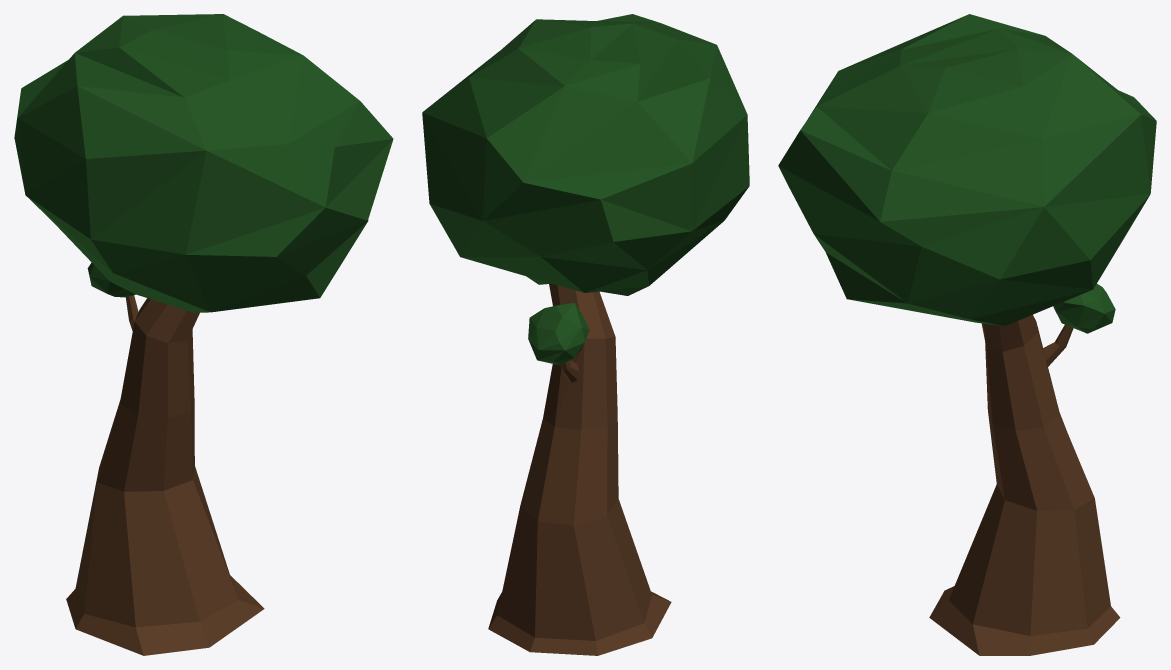
The model's file is oak3.fbx.
The picture shows the model from 3 angles, left to right: view 1: azimuth 30°, elevation 25°; view 2: azimuth 150°, elevation 25°; view 3: azimuth 270°, elevation 25°; orthographic projection. The views are drawn at different scales.
Visible parts, largest first — view 1: Sphere; view 2: Sphere; view 3: Sphere.
Part boxes in pixels (bbox=[...]): Sphere: bbox=[14, 14, 393, 655]; Sphere: bbox=[422, 14, 749, 655]; Sphere: bbox=[778, 14, 1156, 655].
Bounding box in the file's own units: 193 × 358 × 218.
